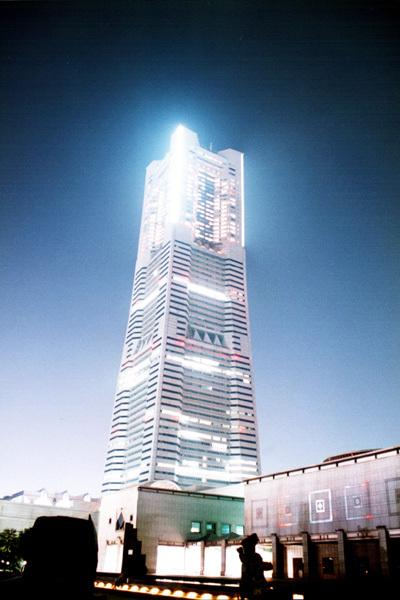building: (100, 123, 264, 600), (246, 443, 400, 600)
